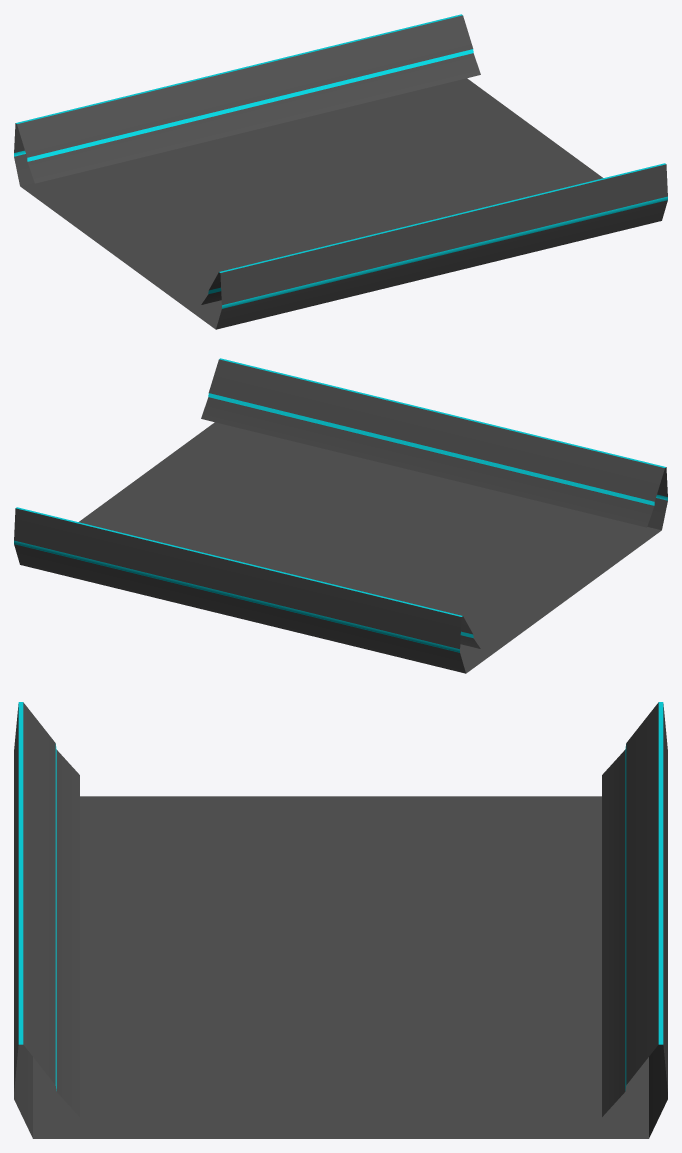
The model's file is genTrackWall.fbx.
3 renders of one model, top to bottom at view 1: azimuth 30°, elevation 25°; view 2: azimuth 150°, elevation 25°; view 3: azimuth 270°, elevation 25°, orthographic. The views are drawn at different scales.
Parts seen in each view (by area): view 1: genTrackWall; view 2: genTrackWall; view 3: genTrackWall.
Boxes of the visible parts, <box> form: genTrackWall: <box>14,14,667,329</box>; genTrackWall: <box>14,358,667,673</box>; genTrackWall: <box>14,702,667,1138</box>.
Size of the model in its own units: 0.1876 by 0.0241 by 0.1514.
